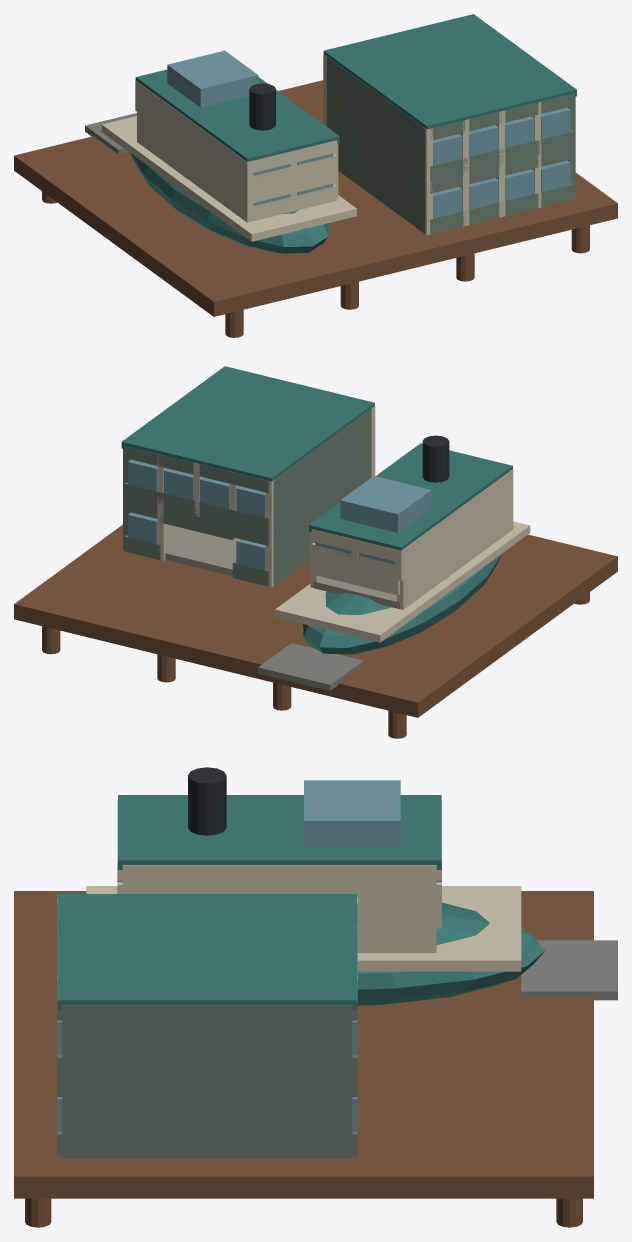
File: ferry-fiasco.glb
3 views of the same model, one above another, from view 1: azimuth 30°, elevation 25°; view 2: azimuth 150°, elevation 25°; view 3: azimuth 270°, elevation 25° (orthographic). The views are drawn at different scales.
Visible parts, largest first — view 1: ferry-fiasco; view 2: ferry-fiasco; view 3: ferry-fiasco.
Part boxes in pixels (box(x1,y1,x2,y2)): ferry-fiasco: box(14, 14, 617, 337); ferry-fiasco: box(14, 366, 617, 738); ferry-fiasco: box(14, 767, 617, 1227).
Bounding box in the file's own units: 28 × 12 × 25.
